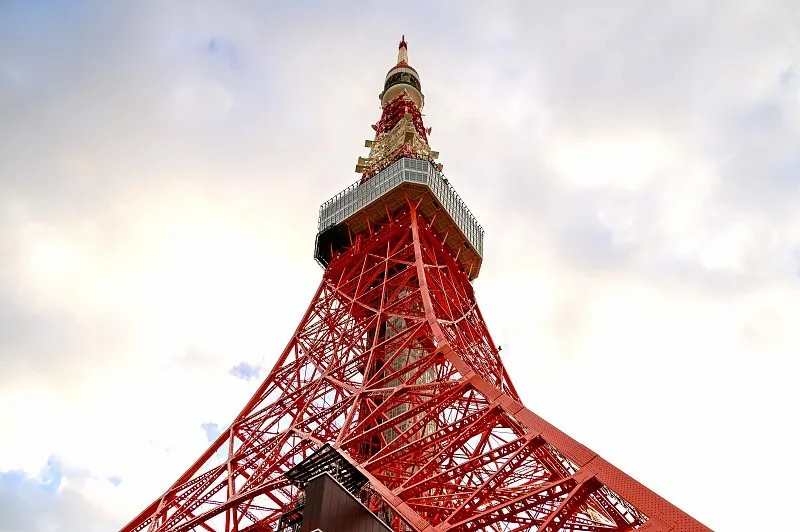Tokyo: (118, 31, 713, 532)
